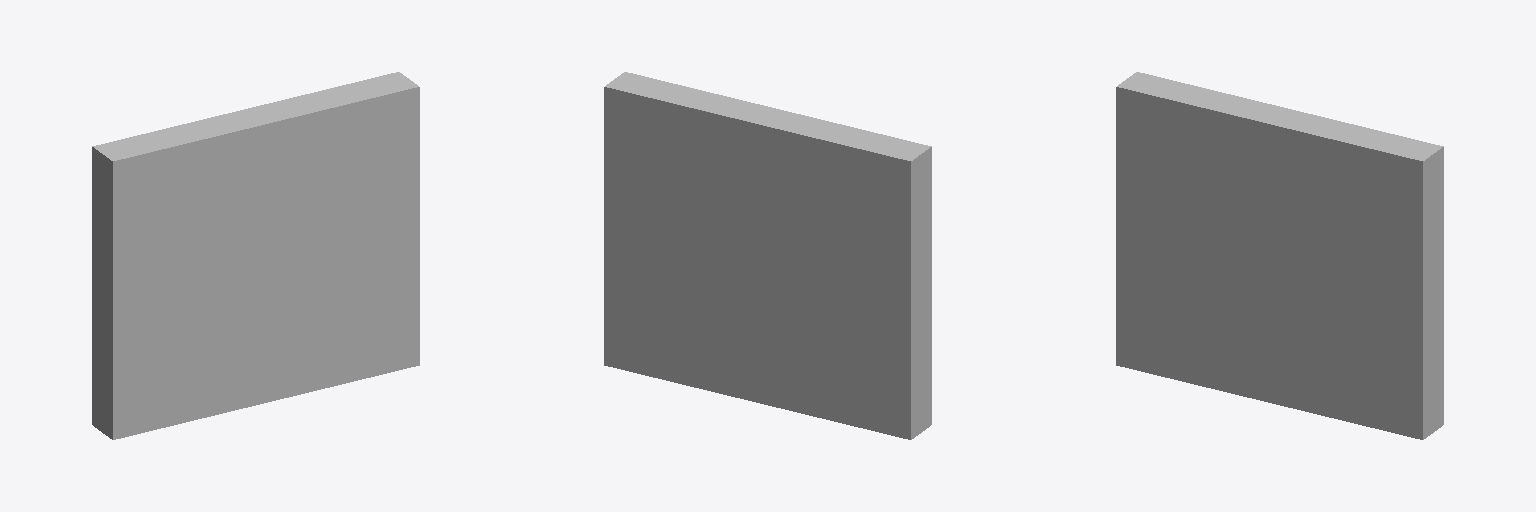
The model's file is Pared.obj.
3 views of the same model, side by side, from view 1: azimuth 30°, elevation 25°; view 2: azimuth 150°, elevation 25°; view 3: azimuth 330°, elevation 25° (orthographic).
Visible parts, largest first — view 1: Pared; view 2: Pared; view 3: Pared.
Boxes of the visible parts, x1=… form: Pared: x1=92, y1=72, x2=419, y2=439; Pared: x1=604, y1=72, x2=931, y2=439; Pared: x1=1116, y1=72, x2=1443, y2=439.
Bounding box in the file's own units: 18.95 × 16.45 × 2.2.